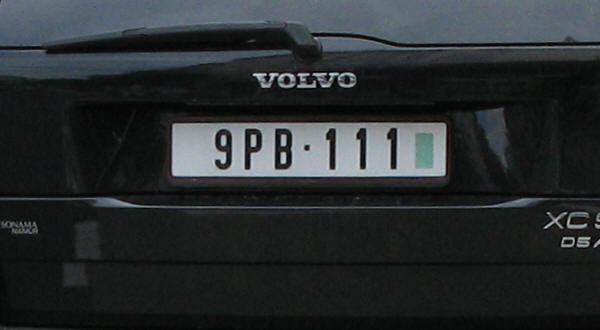license_plate: (171, 120, 446, 177)
